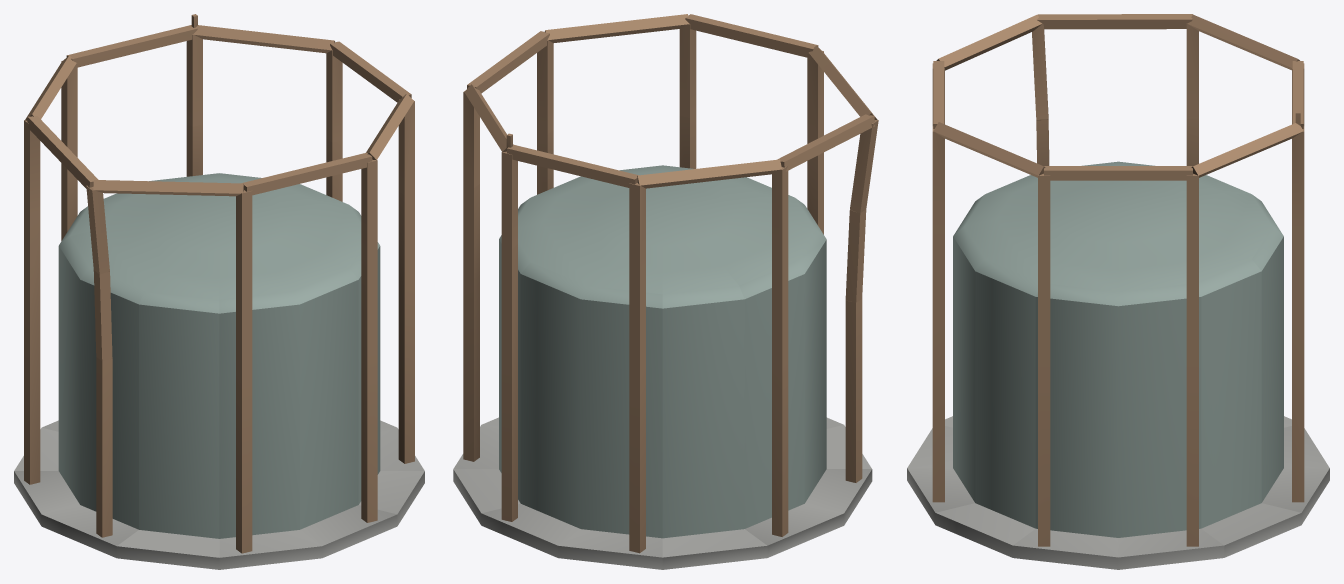
Rendered from gas_holder_lod2.glb.
The picture shows the model from 3 angles, left to right: view 1: azimuth 30°, elevation 25°; view 2: azimuth 150°, elevation 25°; view 3: azimuth 270°, elevation 25°; orthographic projection. The views are drawn at different scales.
Visible parts, largest first — view 1: static; view 2: static; view 3: static.
Boxes of the visible parts, x1=… form: static: x1=14, y1=14, x2=424, y2=569; static: x1=453, y1=14, x2=878, y2=569; static: x1=907, y1=14, x2=1329, y2=569.
Size of the model in its own units: 13.8 by 14.4 by 13.8.
